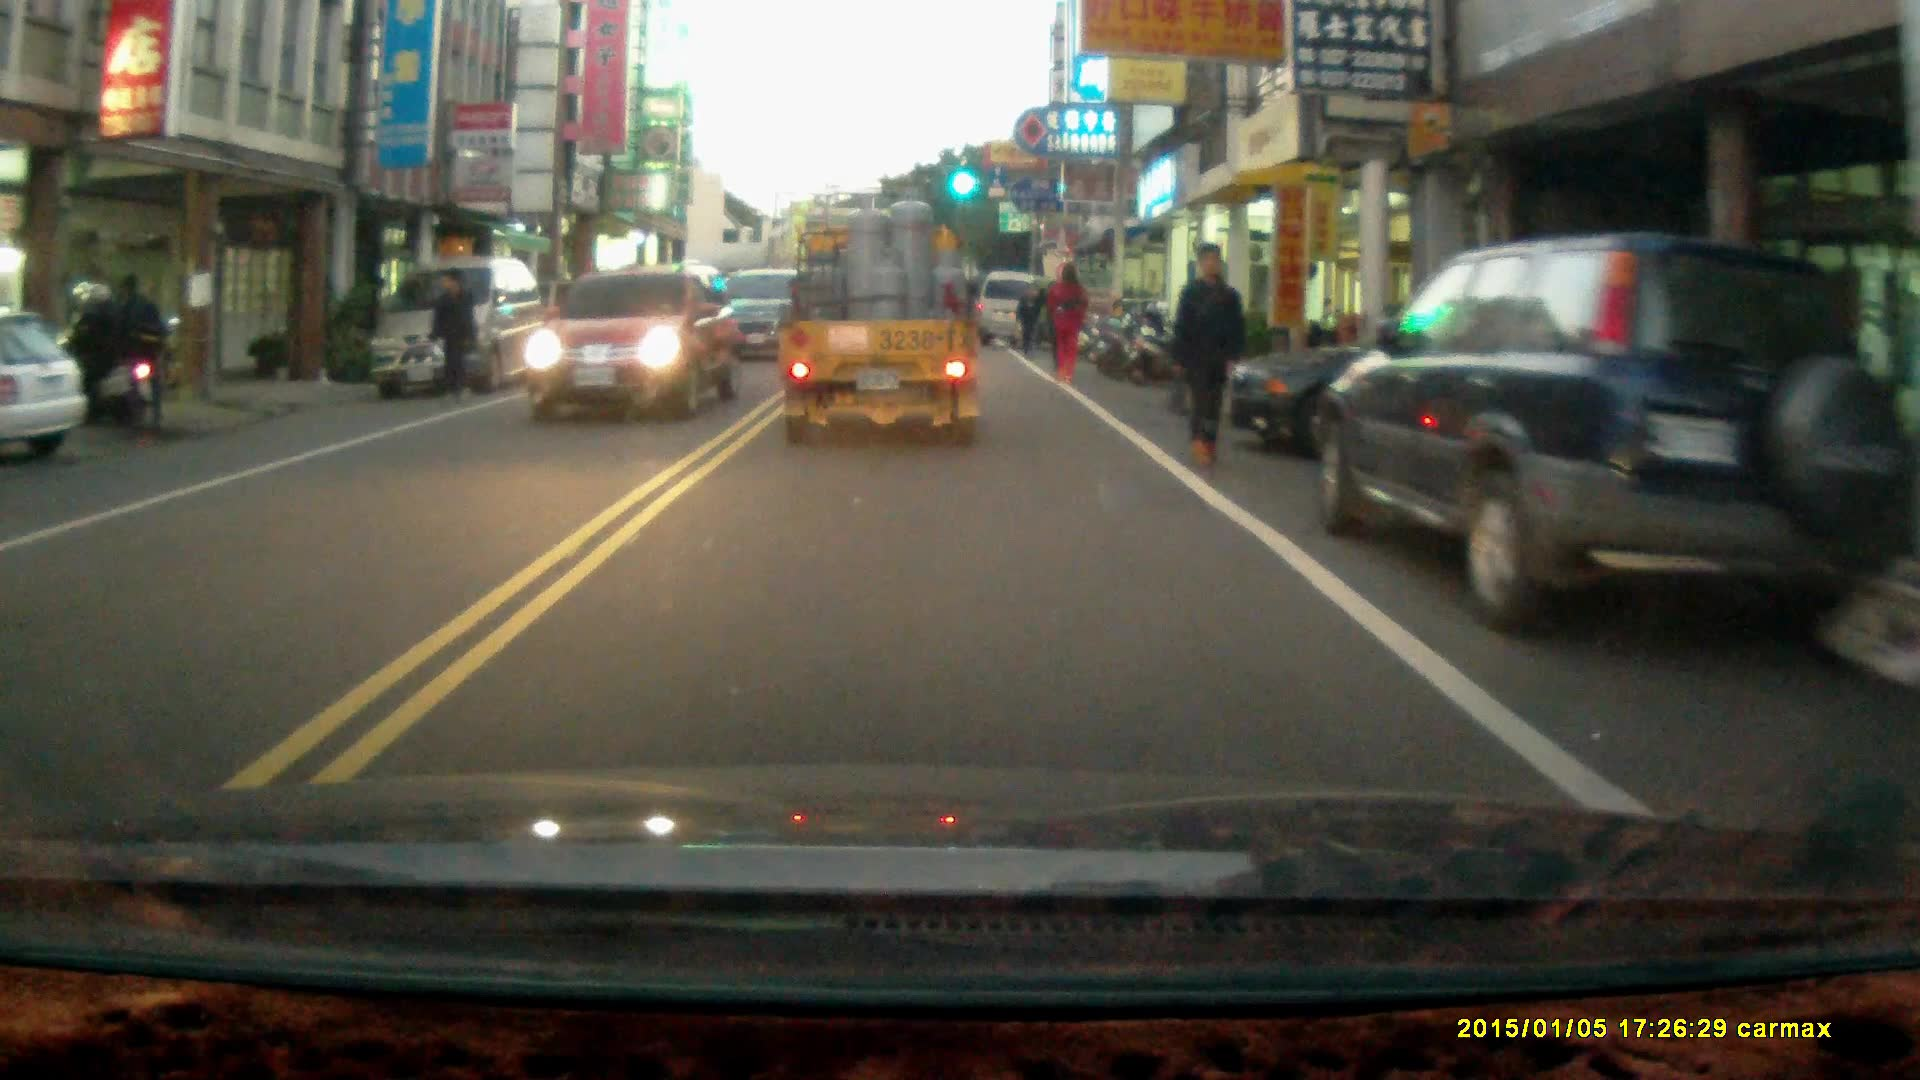pedestrian: (1167, 242, 1246, 474), (109, 278, 168, 443), (424, 268, 478, 410), (1046, 260, 1085, 383), (1014, 286, 1039, 349)
rider: (48, 281, 156, 435)
vehicle: (1311, 229, 1896, 648), (774, 201, 983, 468), (526, 263, 747, 422), (1, 325, 92, 468), (704, 269, 825, 372), (984, 270, 1054, 352)
